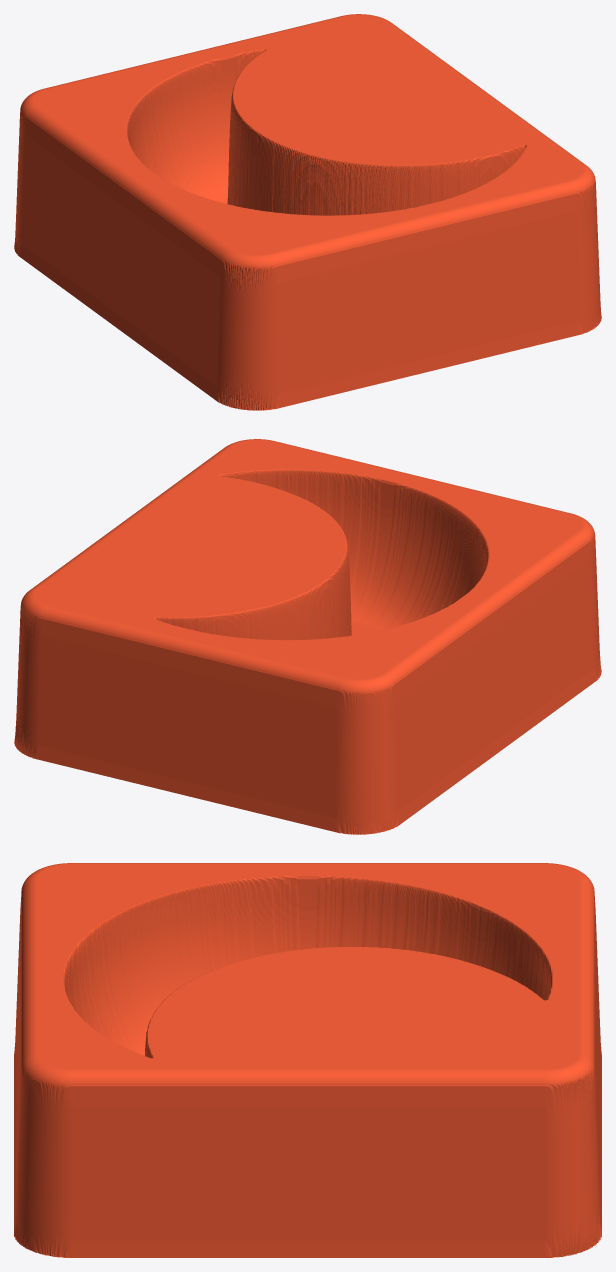
The model's file is mold.glb.
The picture shows the model from 3 angles, top to bottom: view 1: azimuth 30°, elevation 25°; view 2: azimuth 150°, elevation 25°; view 3: azimuth 270°, elevation 25°; orthographic projection. The views are drawn at different scales.
Parts seen in each view (by area): view 1: geometry_0; view 2: geometry_0; view 3: geometry_0.
Part boxes in pixels (box(x1,y1,x2,y2)): geometry_0: box(14, 14, 601, 410); geometry_0: box(14, 439, 601, 834); geometry_0: box(14, 863, 601, 1257).
Bounding box in the file's own units: 0.0834 × 0.031 × 0.0924.
